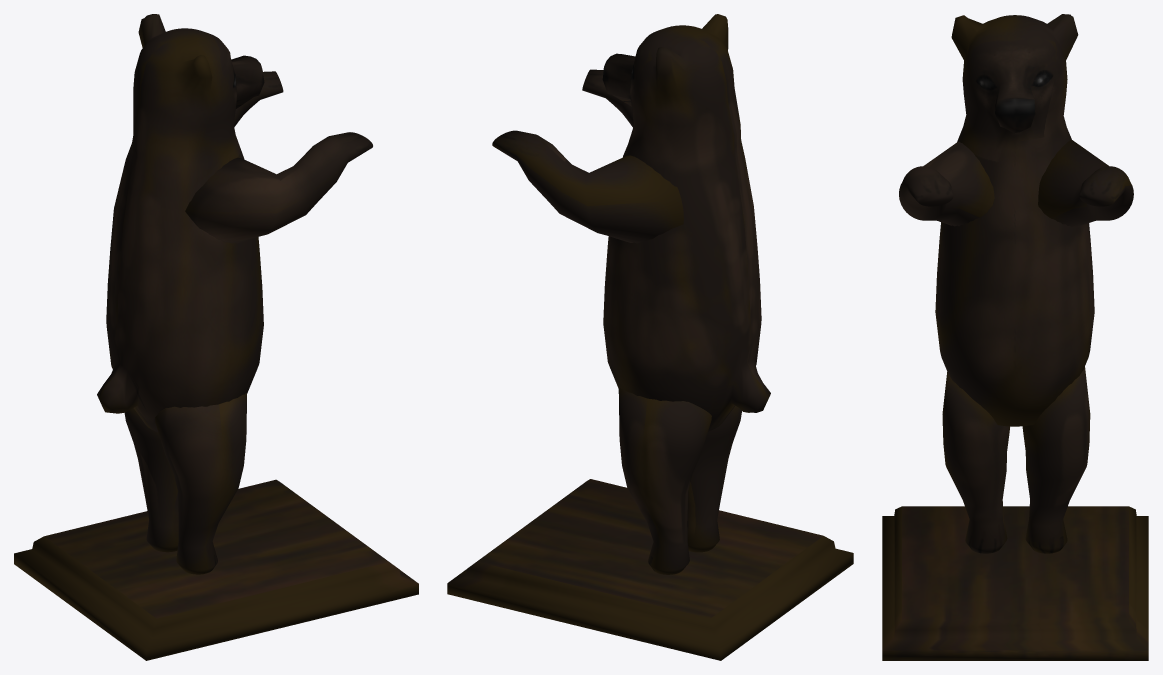
The model's file is Bear.fbx.
3 views of the same model, side by side, from view 1: azimuth 30°, elevation 25°; view 2: azimuth 150°, elevation 25°; view 3: azimuth 270°, elevation 25° (orthographic).
Parts seen in each view (by area): view 1: Cube; view 2: Cube; view 3: Cube.
Boxes of the visible parts, x1,y1,x2,y2 form: Cube: (14,14,418,660); Cube: (447,14,853,660); Cube: (882,14,1148,660).
Bounding box in the file's own units: 306 × 597 × 257.
